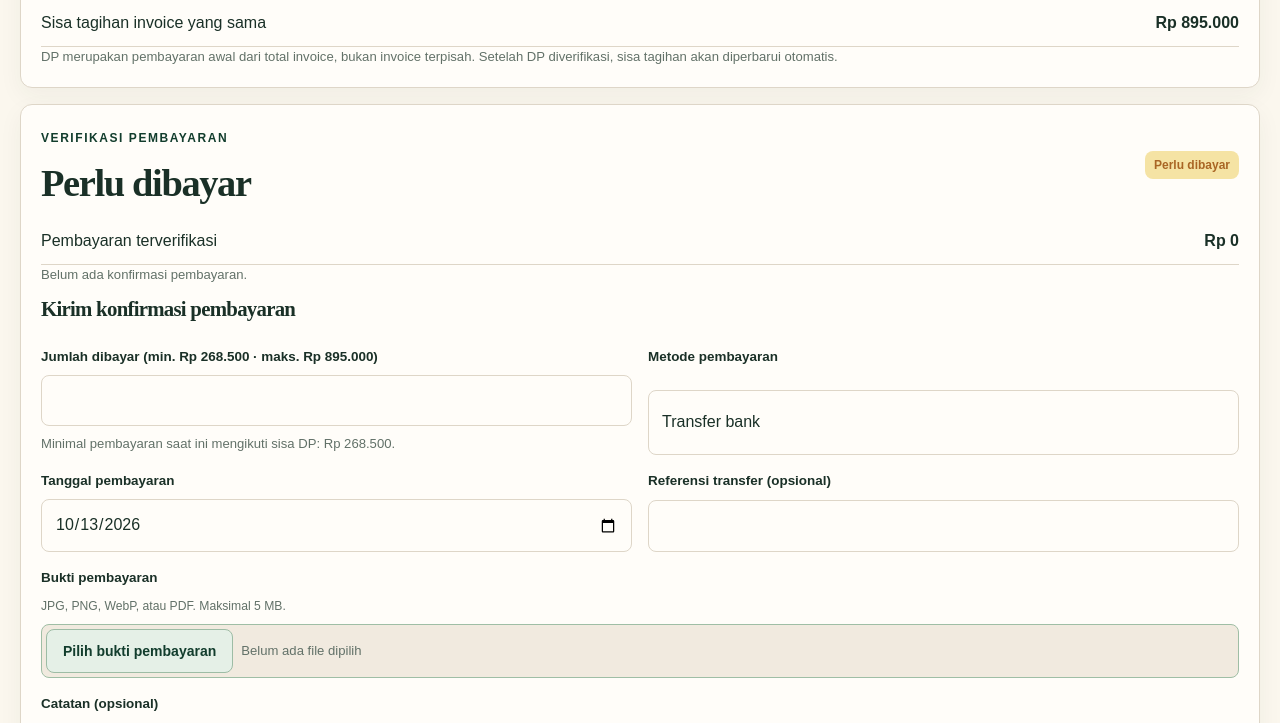
Test: Customer payment amount guard › keeps submit disabled below DP and enables it for a valid above-DP amount
The width and height of the screenshot is (1280, 723).
(page scrolled)
Type "200000" into the number field labelled "Jumlah dibayar" at (336, 401), box [41,375,632,426]
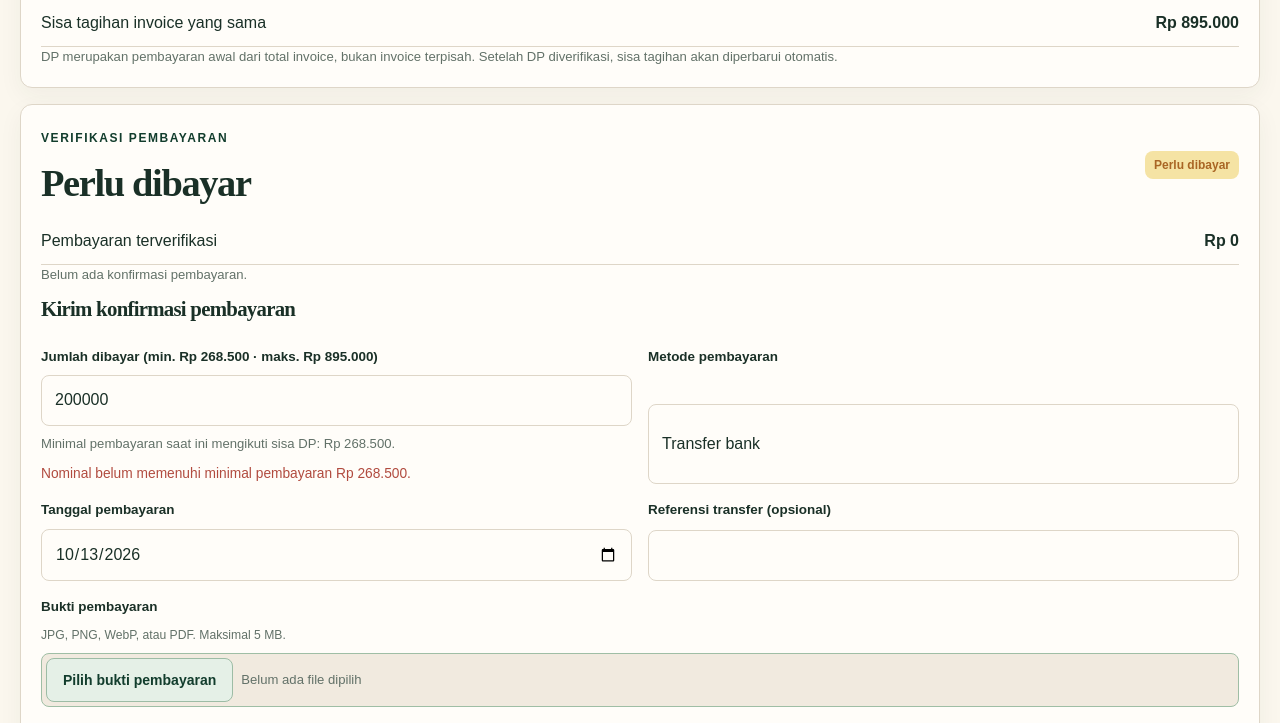
Result: the text "Nominal belum memenuhi minimal pembayaran Rp 268.500." is shown at [41,466,411,480]
Replace the text in the number field labelled "Jumlah dibayar" with "300000" at (336, 401), box [41,375,632,426]
(page scrolled)
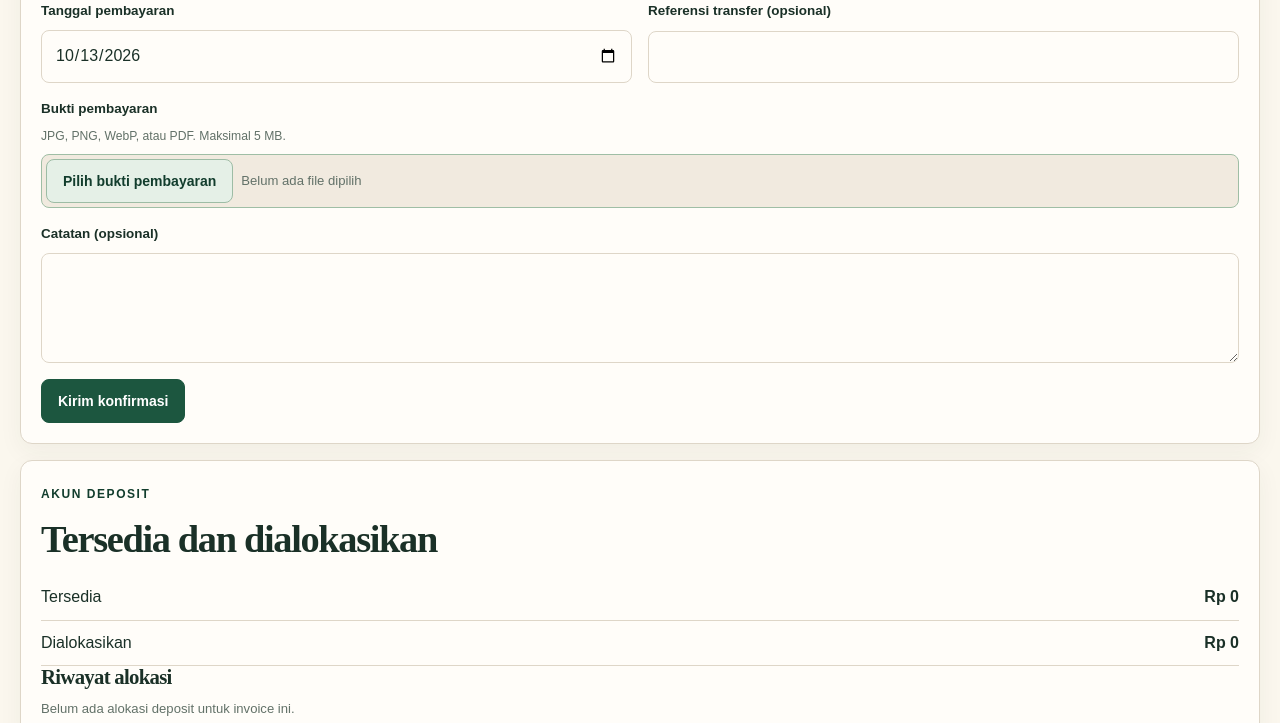
Result: the button "Kirim konfirmasi" is enabled at [41,379,186,423]
